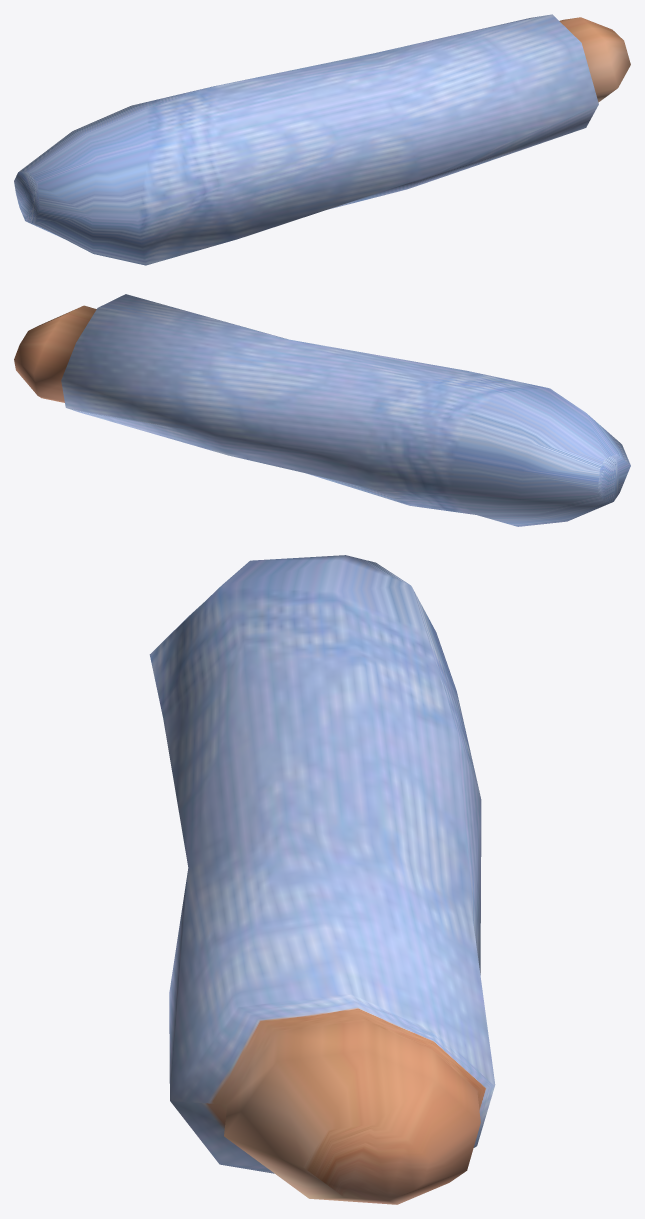
The model's file is RightArm2.dae.
The picture shows the model from 3 angles, top to bottom: view 1: azimuth 30°, elevation 25°; view 2: azimuth 150°, elevation 25°; view 3: azimuth 270°, elevation 25°; orthographic projection. The views are drawn at different scales.
Parts seen in each view (by area): view 1: RightArm2; view 2: RightArm2; view 3: RightArm2.
Boxes of the visible parts, box(x1,y1,x2,y2) form: RightArm2: box(14, 14, 630, 265); RightArm2: box(14, 294, 630, 526); RightArm2: box(149, 555, 495, 1204).
Bounding box in the file's own units: 0.2972 × 0.0769 × 0.0647.
Materials: 1 (1 with a texture image).
